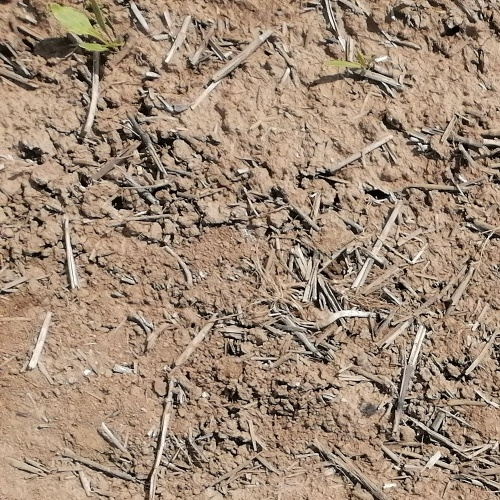beet: (50, 0, 130, 54), (325, 53, 387, 67)
